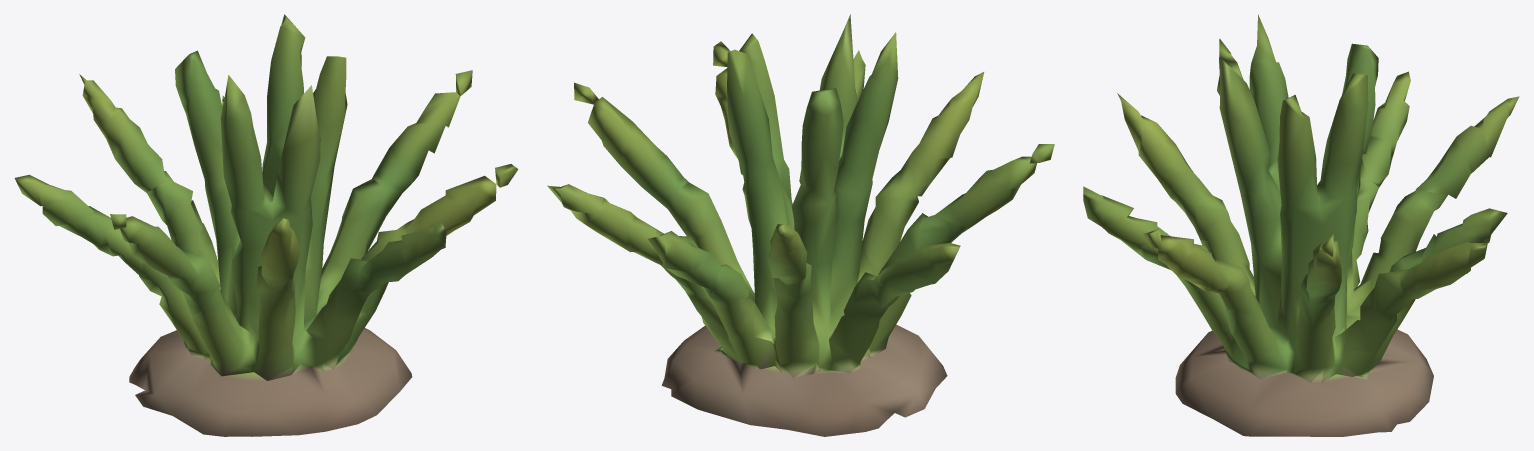
The model's file is grass-turf0.glb.
3 renders of one model, left to right at view 1: azimuth 30°, elevation 25°; view 2: azimuth 150°, elevation 25°; view 3: azimuth 270°, elevation 25°, orthographic.
Visible parts, largest first — view 1: body; view 2: body; view 3: body.
Boxes of the visible parts, box(x1,y1,x2,y2) form: body: box(14, 14, 518, 436); body: box(547, 14, 1054, 436); body: box(1083, 14, 1519, 436).
Bounding box in the file's own units: 0.5327 × 0.4177 × 0.4843.
